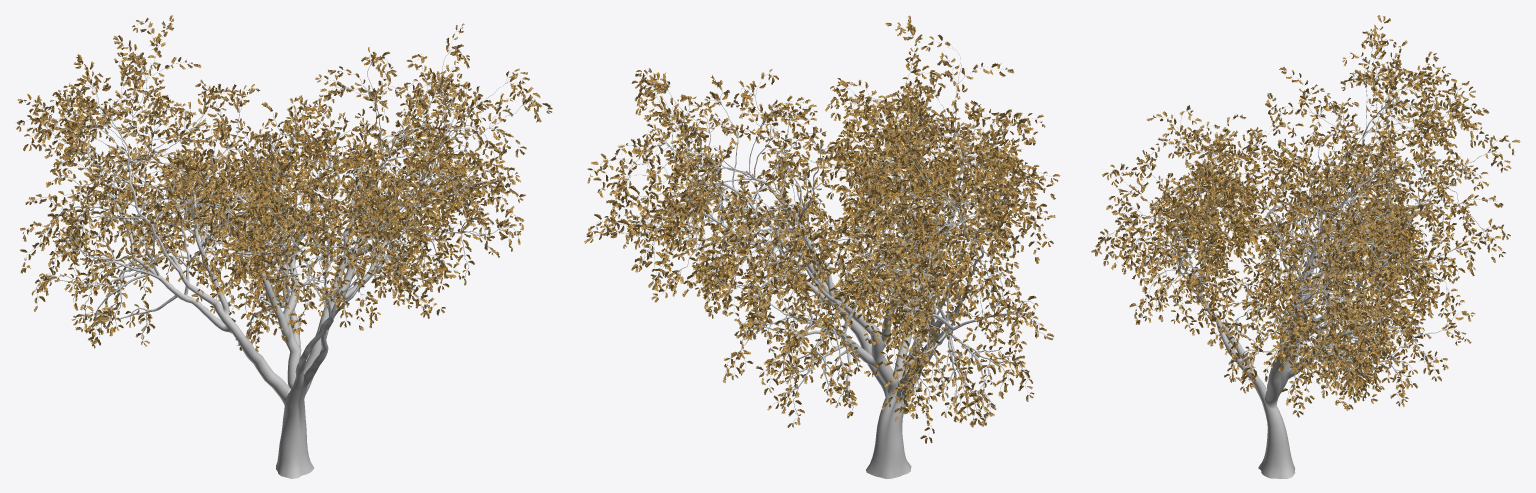
File: Quishuar pro 12m.fbx
3 views of the same model, side by side, from view 1: azimuth 30°, elevation 25°; view 2: azimuth 150°, elevation 25°; view 3: azimuth 270°, elevation 25° (orthographic). The views are drawn at different scales.
Parts seen in each view (by area): view 1: Hojas, Tronco; view 2: Hojas, Tronco; view 3: Hojas, Tronco.
Part boxes in pixels (x1,y1,x2,y2): Hojas: [15, 15, 552, 351]; Tronco: [23, 21, 546, 478]; Hojas: [584, 15, 1060, 443]; Tronco: [593, 26, 1047, 478]; Hojas: [1091, 15, 1520, 417]; Tronco: [1101, 30, 1506, 478].
Size of the model in its own units: 48.72 by 42.33 by 43.08.
